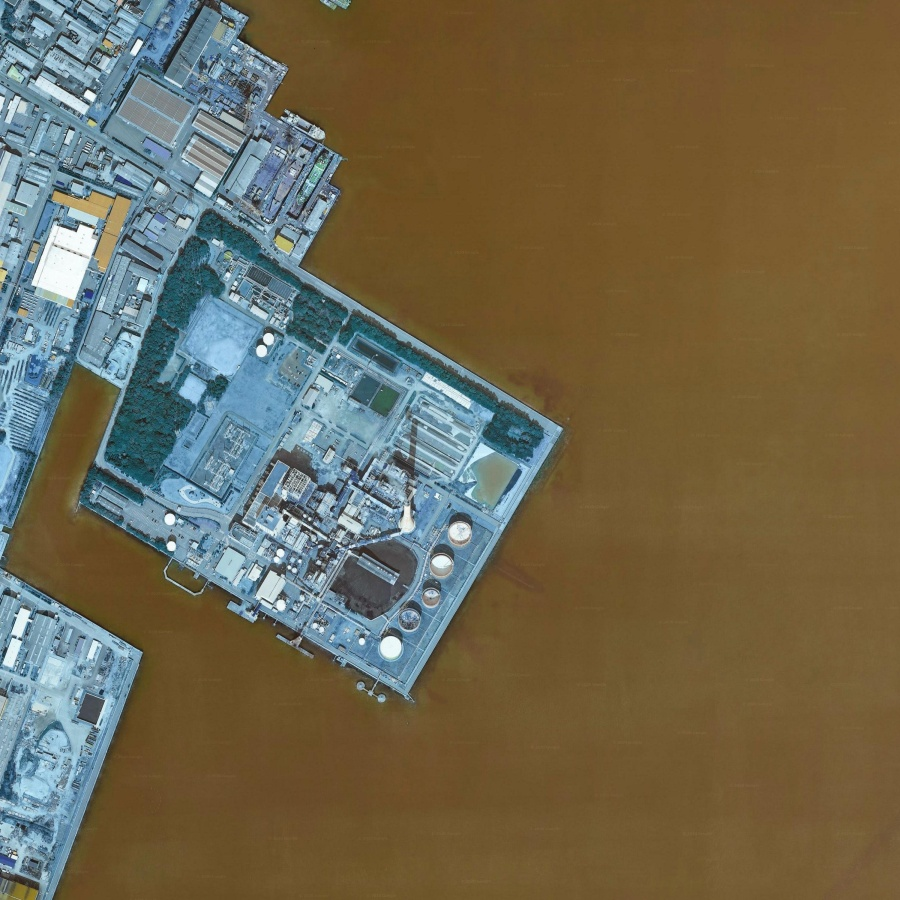PowerPlant: (158, 374, 527, 693)
